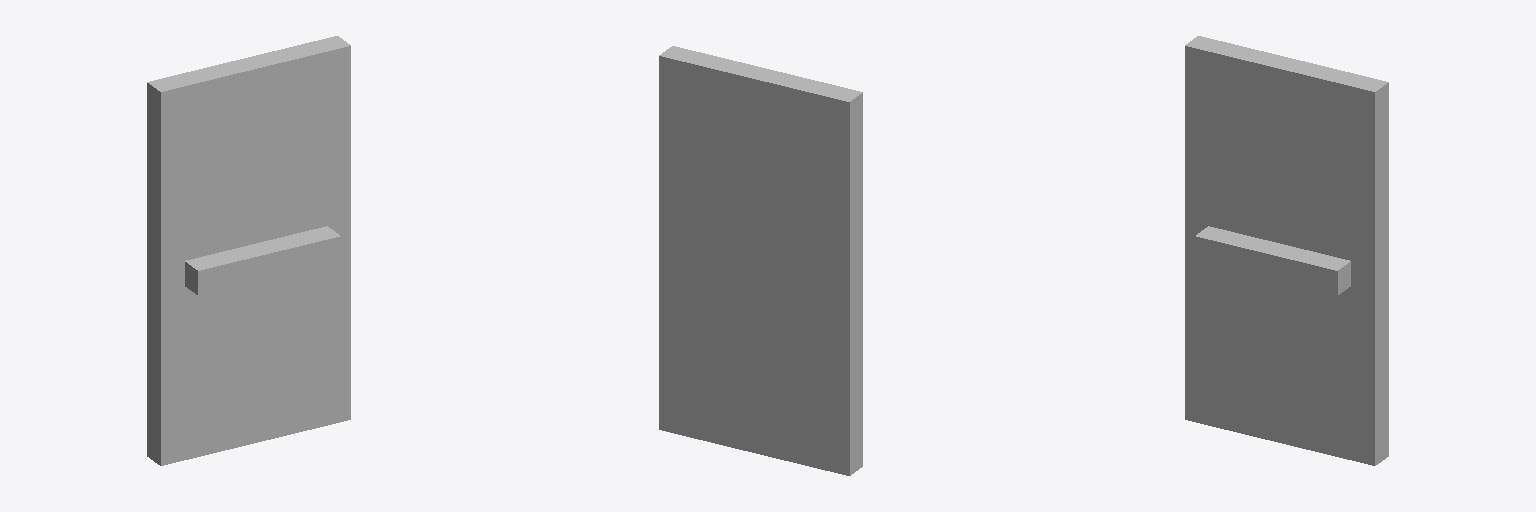
Rendered from Door.obj.
The picture shows the model from 3 angles: view 1: azimuth 30°, elevation 25°; view 2: azimuth 150°, elevation 25°; view 3: azimuth 330°, elevation 25°; orthographic projection.
Parts seen in each view (by area): view 1: object 1; view 2: object 1; view 3: object 1.
Part boxes in pixels (x1,y1,x2,y2): object 1: (147, 36, 350, 465); object 1: (659, 46, 862, 475); object 1: (1185, 36, 1388, 465).
Bounding box in the file's own units: 0.8 × 1.5 × 0.2.